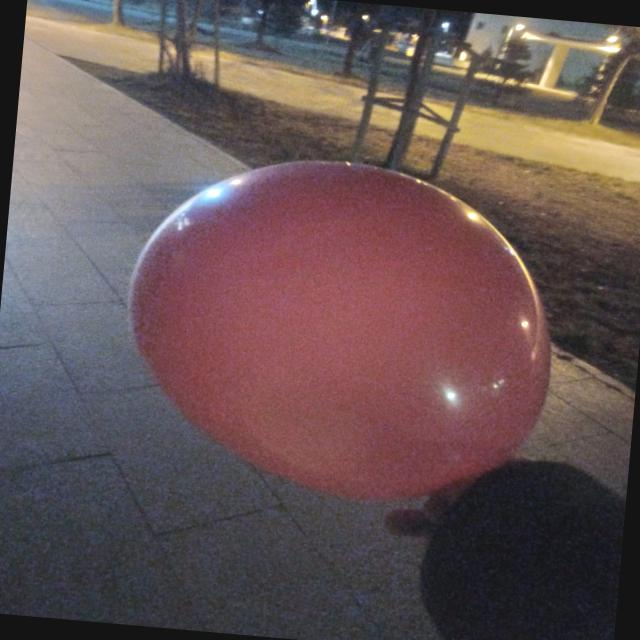balloon: (129, 162, 551, 499)
